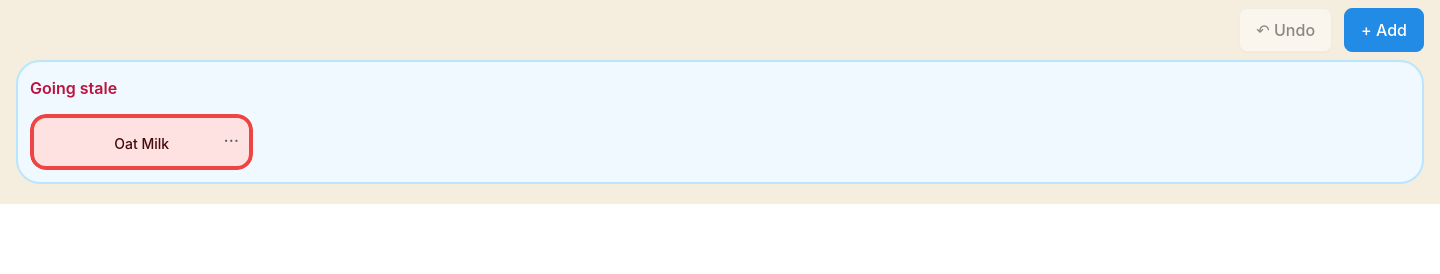
Test: One tap on the tile › rolls back and says why when a tap fails
This screenshot has width=1440, height=274.
Click the button with aria-label "Oat Milk, going stale" at (142, 142), box [30,114,253,170]
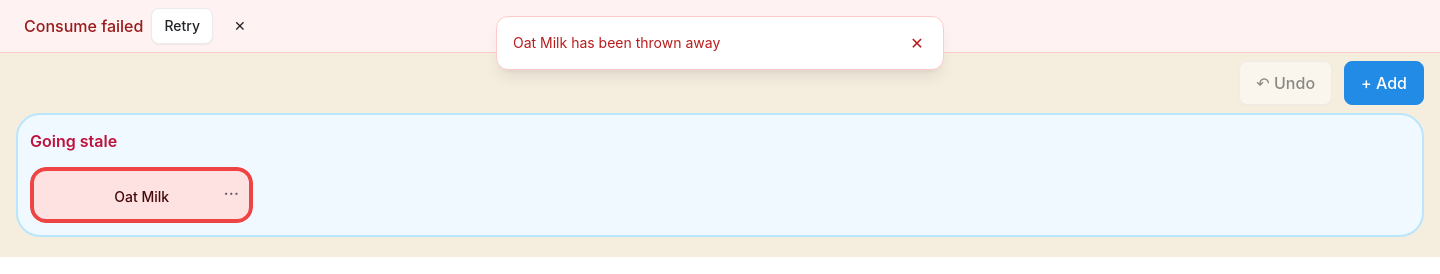
Expected: the button with aria-label "Oat Milk, going stale" is shown, [30,167,253,223]
Result: the text "Oat Milk has been thrown away" is shown at [513,34,720,51]
